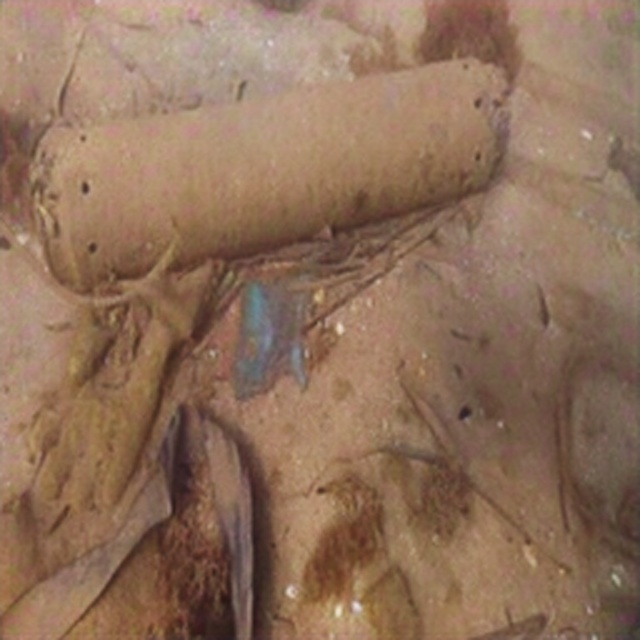mine: (34, 56, 510, 296)
